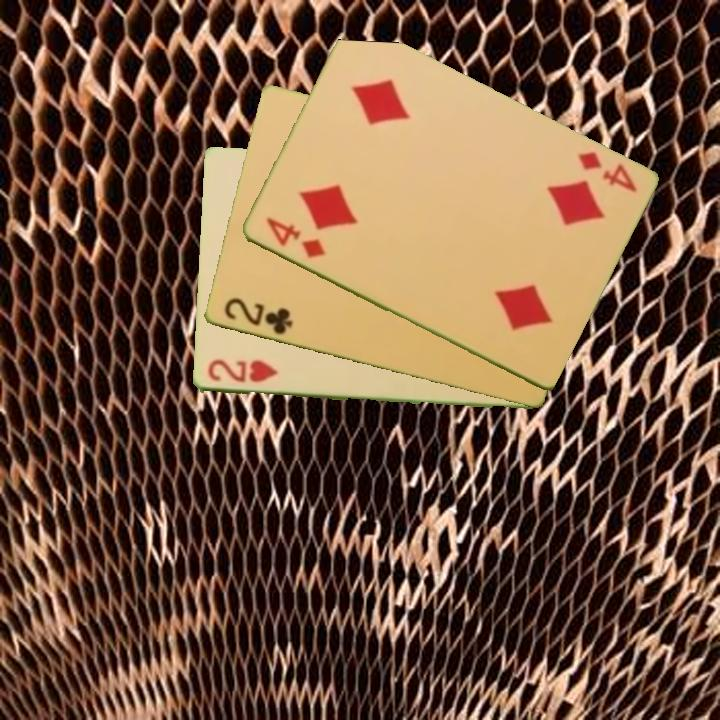2c: (220, 294, 295, 338)
2h: (204, 356, 281, 386)
4d: (573, 148, 639, 196), (261, 214, 328, 261)
